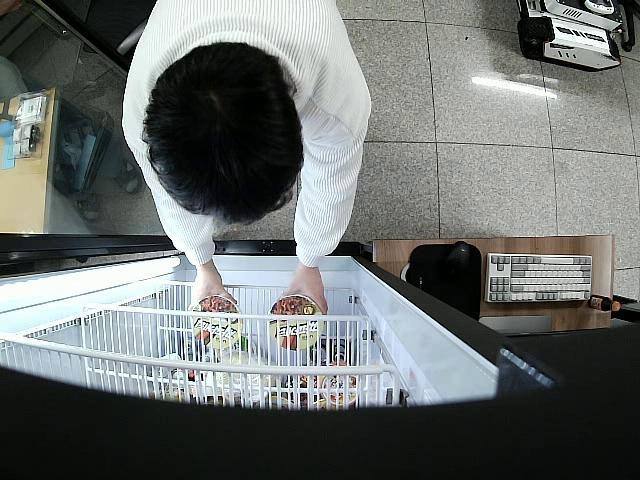03_chapagetti_L: (269, 298, 327, 350), (193, 296, 246, 348)
